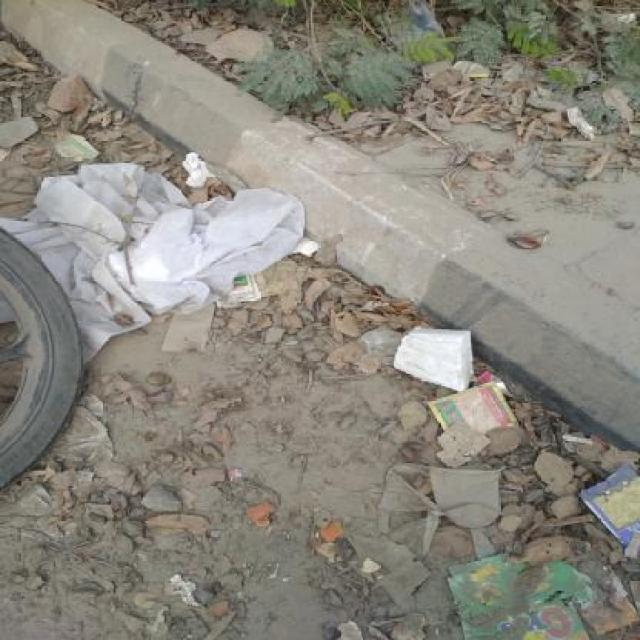garbage: (7, 0, 336, 351), (114, 373, 484, 640), (404, 343, 640, 639), (452, 76, 640, 233), (331, 257, 446, 368)
